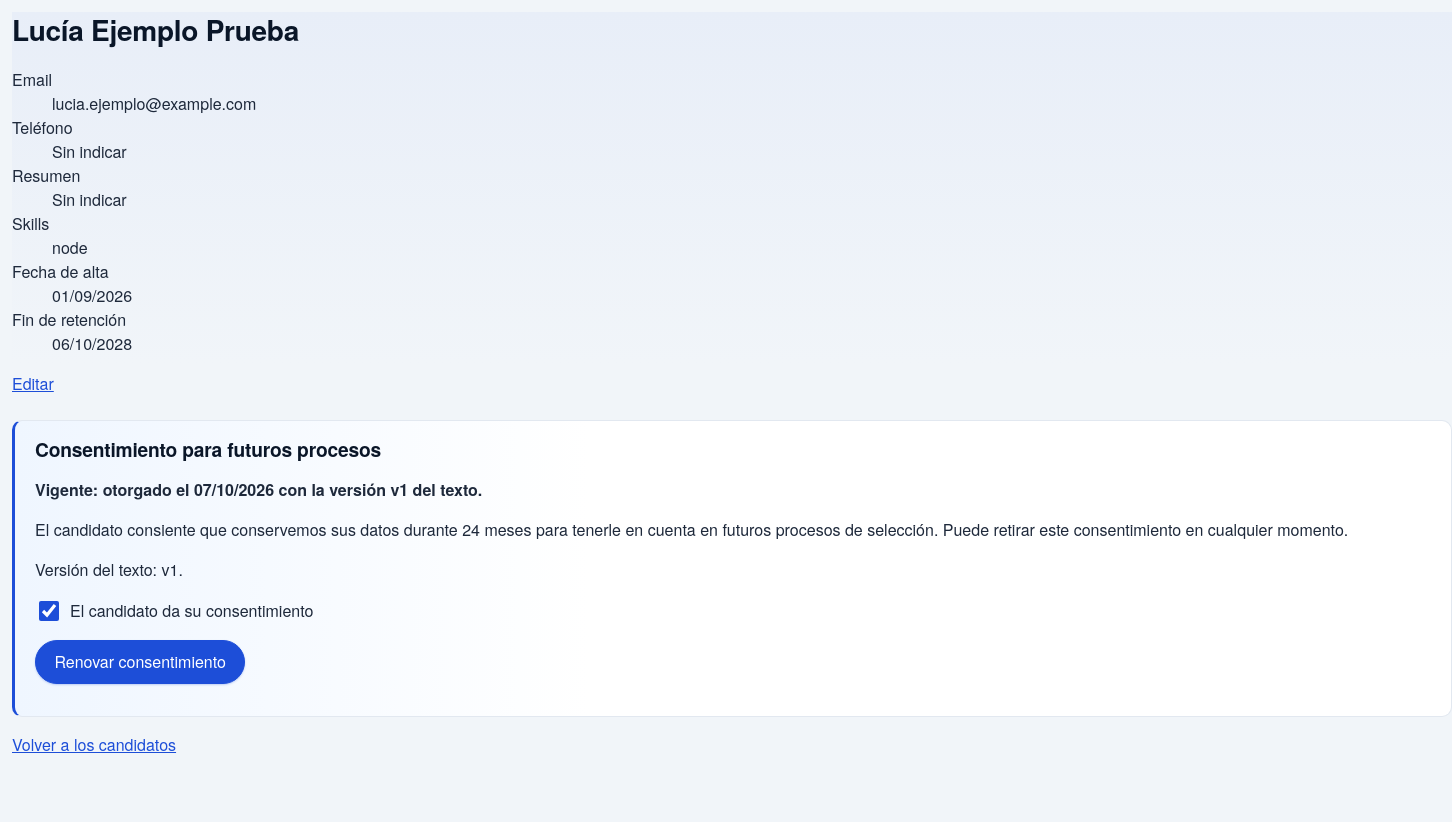
it: CandidateDetailScreen · consentimiento frente a fallos › CA-30 / EC-53 500 al renovar → alerta genérica; casilla, resumen y fin de retención como estaban
The image size is (1452, 822).
Click the button "Renovar consentimiento" at (140, 662), box top-left (35, 640), bottom-right (245, 684)
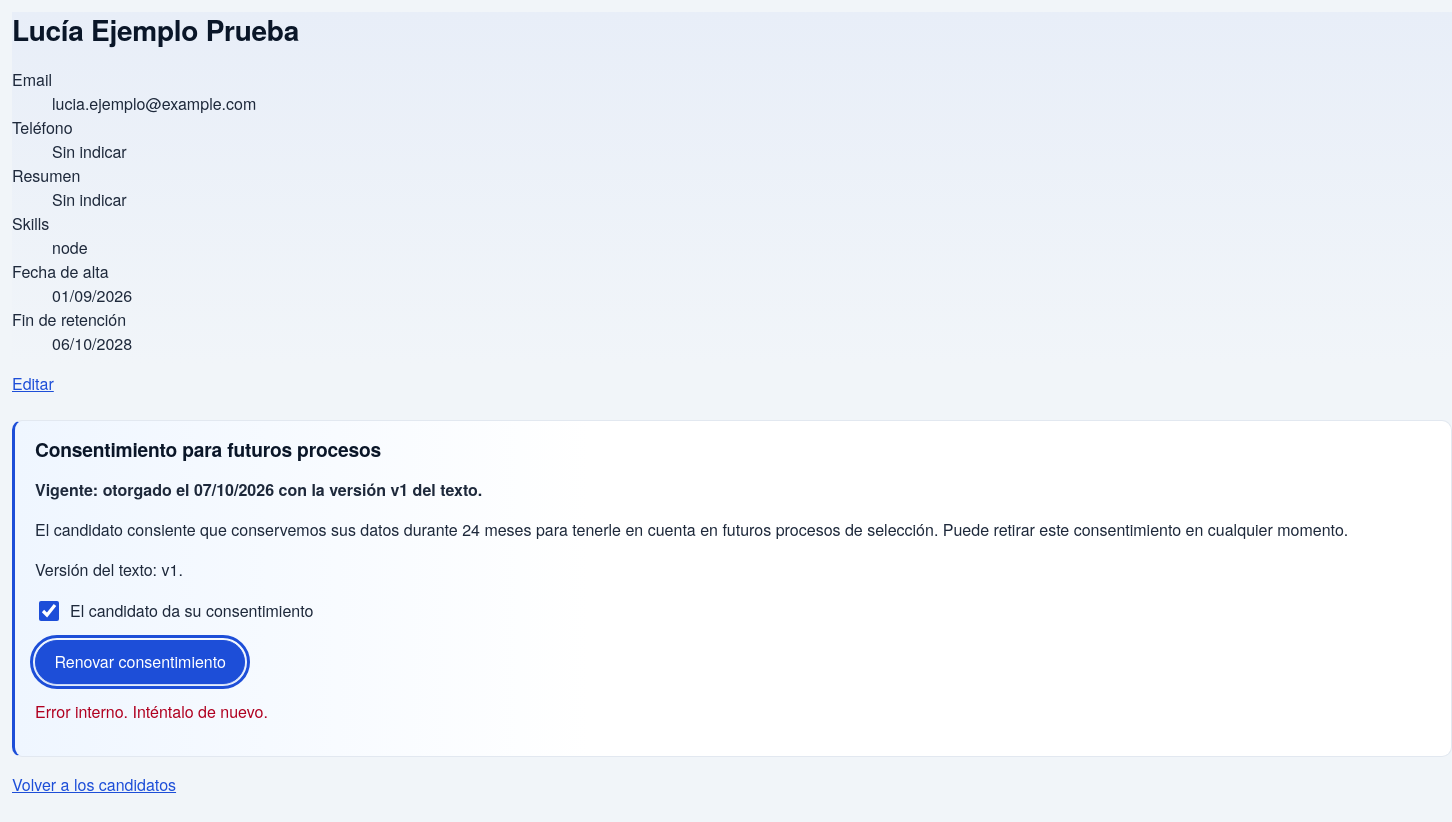
Expected: the checkbox labelled "El candidato da su consentimiento" is checked, top-left (39, 601), bottom-right (59, 621)
Expected: the message reads "Error interno. Inténtalo de nuevo.", top-left (35, 700), bottom-right (268, 723)
